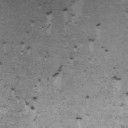oxide scale of temperature system: (25, 23, 109, 114), (21, 8, 68, 50), (112, 76, 122, 80), (10, 87, 16, 90)
